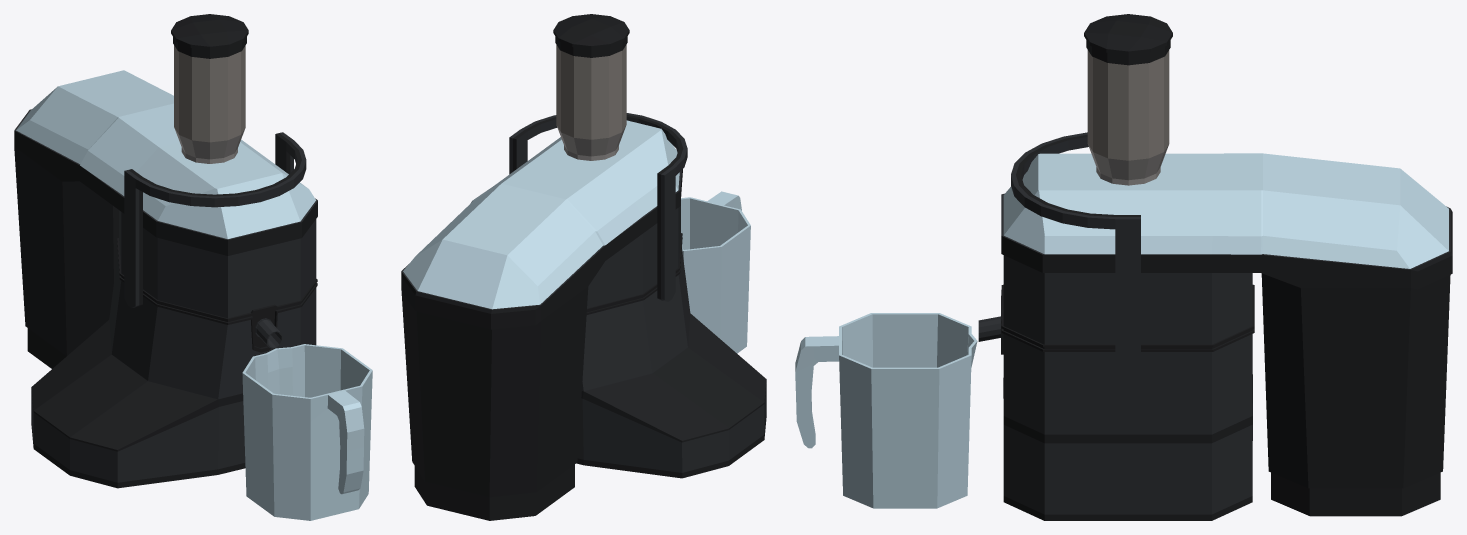
File: juicermodern_01_E.gltf
The picture shows the model from 3 angles, left to right: view 1: azimuth 30°, elevation 25°; view 2: azimuth 150°, elevation 25°; view 3: azimuth 270°, elevation 25°; orthographic projection. The views are drawn at different scales.
Visible parts, largest first — view 1: juicermodern_01_E, Glassforjuicermodern_01_E; view 2: juicermodern_01_E, Glassforjuicermodern_01_E; view 3: juicermodern_01_E, Glassforjuicermodern_01_E.
Part boxes in pixels (x1=…): juicermodern_01_E: x1=14, y1=14, x2=317, y2=488; Glassforjuicermodern_01_E: x1=242, y1=344, x2=372, y2=520; juicermodern_01_E: x1=401, y1=14, x2=766, y2=520; Glassforjuicermodern_01_E: x1=681, y1=191, x2=750, y2=353; juicermodern_01_E: x1=978, y1=14, x2=1452, y2=520; Glassforjuicermodern_01_E: x1=795, y1=313, x2=977, y2=508.
Size of the model in its own units: 0.3298 by 0.5278 by 0.694.
Materials: 1 (1 with a texture image).
